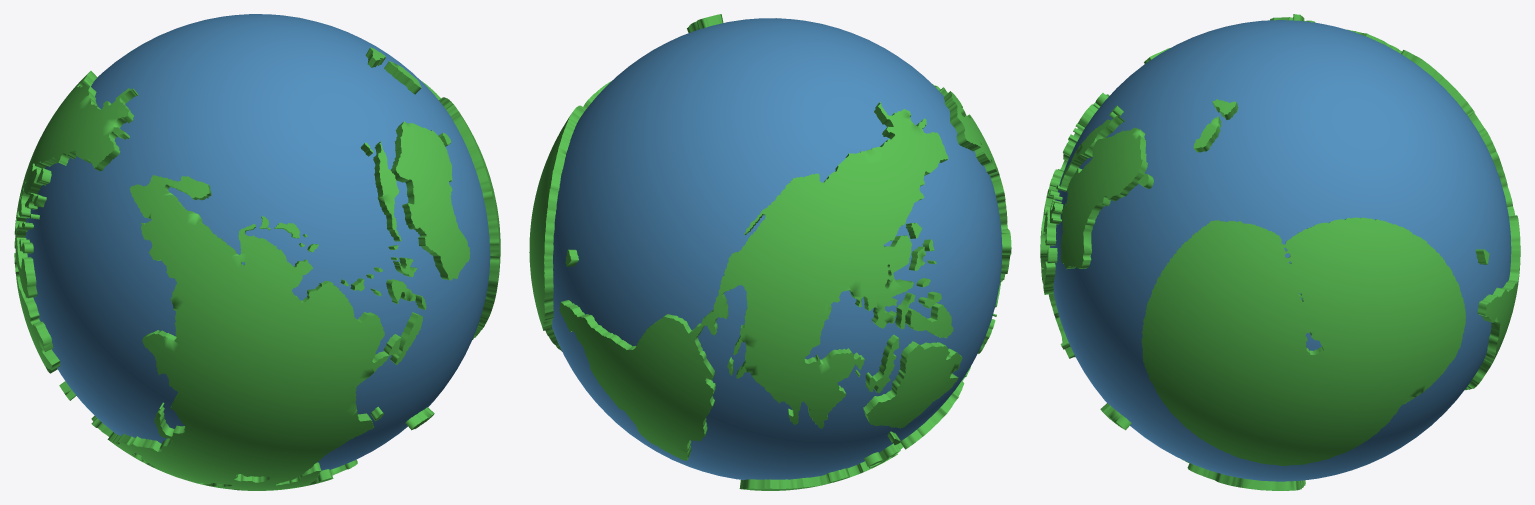
Rendered from earth2.glb.
3 renders of one model, left to right at view 1: azimuth 30°, elevation 25°; view 2: azimuth 150°, elevation 25°; view 3: azimuth 270°, elevation 25°, orthographic.
Visible parts, largest first — view 1: base, contents; view 2: base, contents; view 3: base, contents.
Boxes of the visible parts, <box> form: base: <box>25,14,490,470</box>; contents: <box>14,47,500,490</box>; base: <box>552,18,1002,479</box>; contents: <box>529,14,1011,490</box>; base: <box>1050,20,1511,481</box>; contents: <box>1040,14,1520,490</box>.
Size of the model in its own units: 1.98 by 1.96 by 2.
